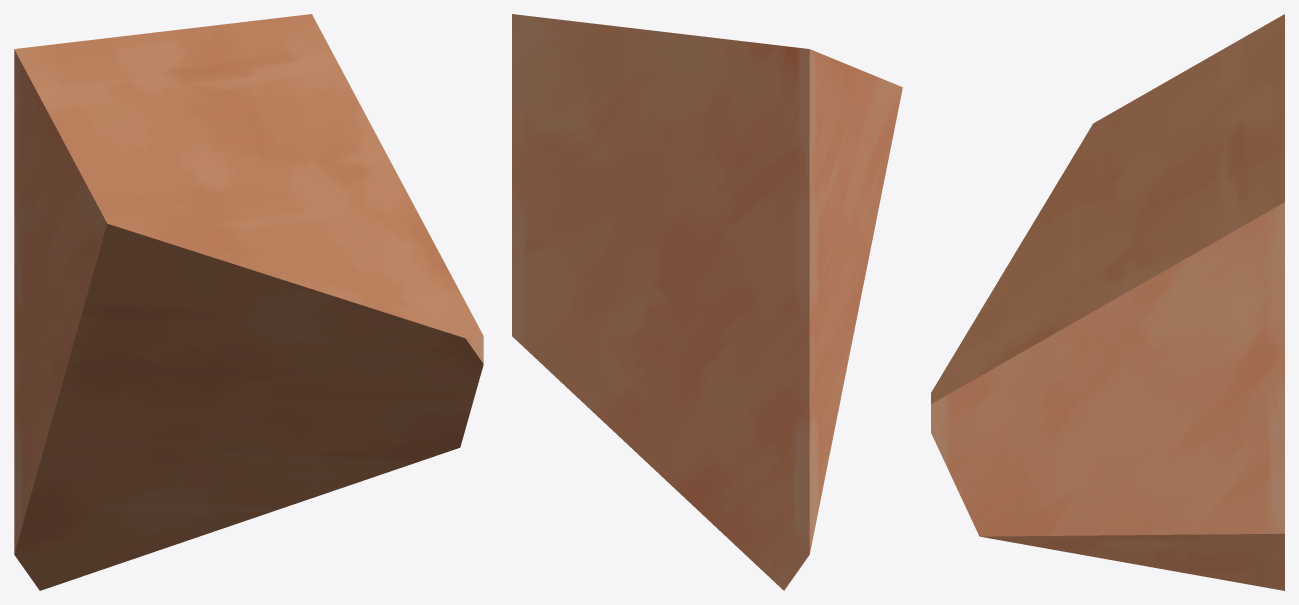
Rendered from corner_s01.fbx.
3 renders of one model, left to right at view 1: azimuth 30°, elevation 25°; view 2: azimuth 150°, elevation 25°; view 3: azimuth 270°, elevation 25°, orthographic. The views are drawn at different scales.
Visible parts, largest first — view 1: corner_s01; view 2: corner_s01; view 3: corner_s01.
Part boxes in pixels (x1=…): corner_s01: x1=14, y1=14, x2=483, y2=590; corner_s01: x1=512, y1=14, x2=902, y2=590; corner_s01: x1=931, y1=14, x2=1284, y2=590.
Size of the model in its own units: 1.5 by 2.64 by 1.5.
